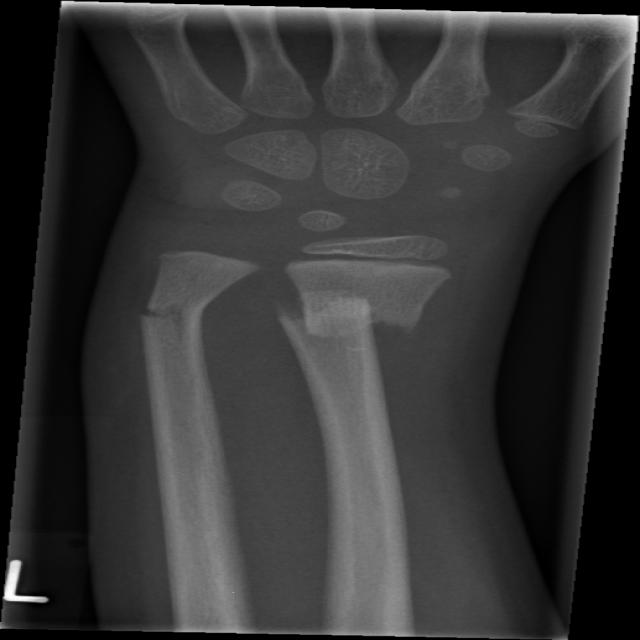radius fracture: (233, 270, 477, 420)
ulna fracture: (117, 255, 254, 425)
